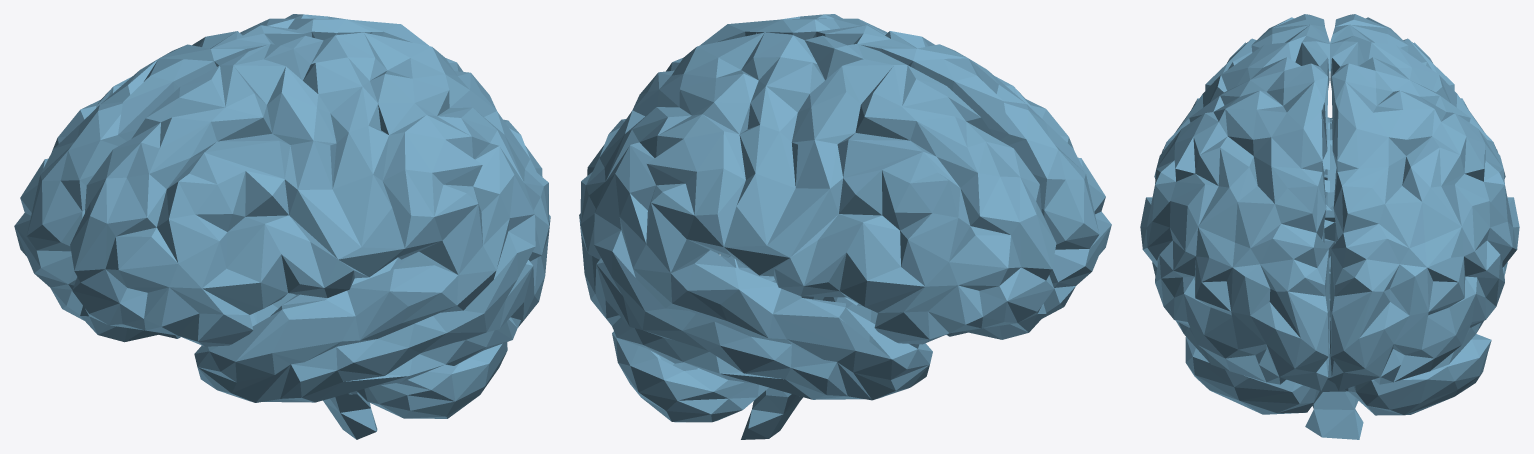
Rendered from brain5000.glb.
3 views of the same model, side by side, from view 1: azimuth 30°, elevation 25°; view 2: azimuth 150°, elevation 25°; view 3: azimuth 270°, elevation 25° (orthographic). The views are drawn at different scales.
Visible parts, largest first — view 1: node-0.001; view 2: node-0.001; view 3: node-0.001.
Part boxes in pixels (left/top/right/bottom): node-0.001: left=14, top=14, right=550, bottom=439; node-0.001: left=579, top=14, right=1111, bottom=439; node-0.001: left=1140, top=14, right=1519, bottom=439.
Bounding box in the file's own units: 214 × 180 × 172.
